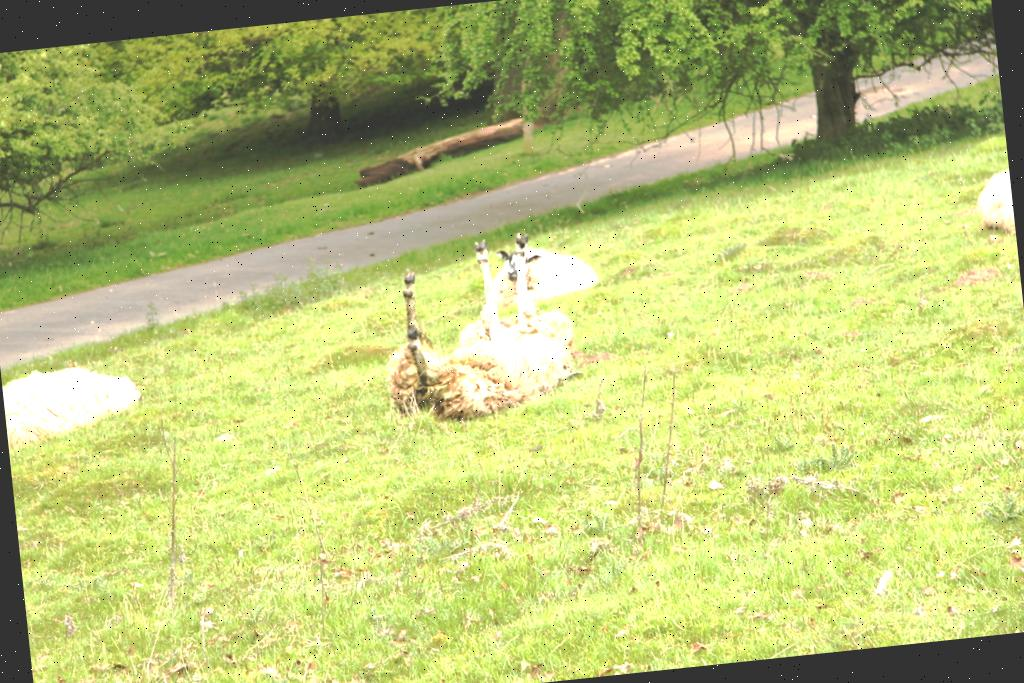Sheep: (372, 224, 586, 432), (0, 360, 148, 448), (487, 234, 596, 304), (975, 168, 1014, 234)
